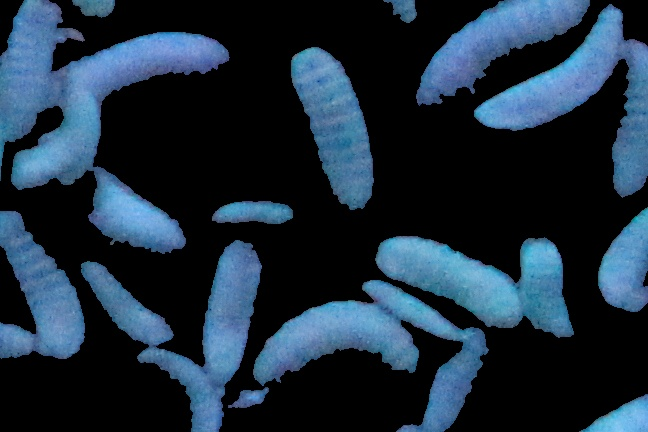larvae: (417, 1, 590, 108), (475, 6, 623, 129), (376, 227, 520, 326), (249, 299, 418, 383), (1, 208, 91, 356), (289, 48, 371, 210), (44, 32, 230, 101), (81, 168, 188, 254), (12, 91, 100, 189), (199, 239, 260, 376), (80, 257, 175, 343), (1, 1, 60, 139), (136, 344, 225, 431), (421, 327, 492, 432), (362, 279, 465, 342), (513, 228, 572, 336), (611, 38, 648, 198), (597, 207, 648, 314), (215, 196, 295, 228)
